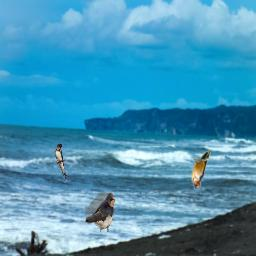Swallow: (85, 192, 115, 232), (191, 150, 211, 190), (55, 143, 67, 183)
